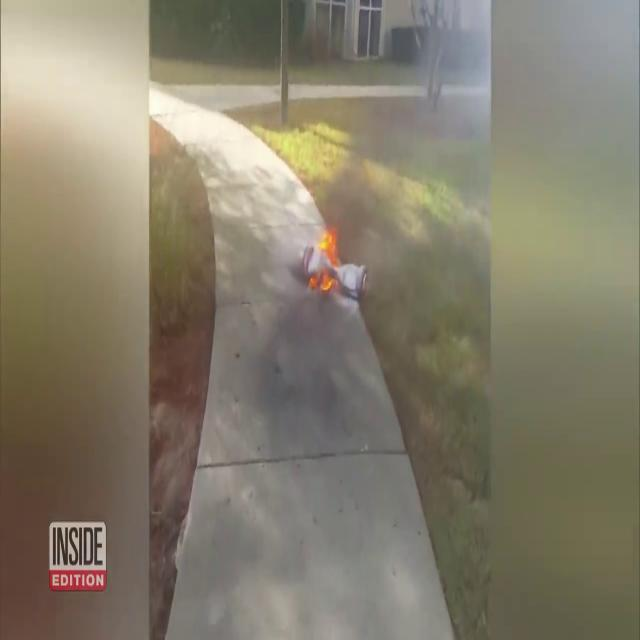Fire: (308, 224, 342, 292)
